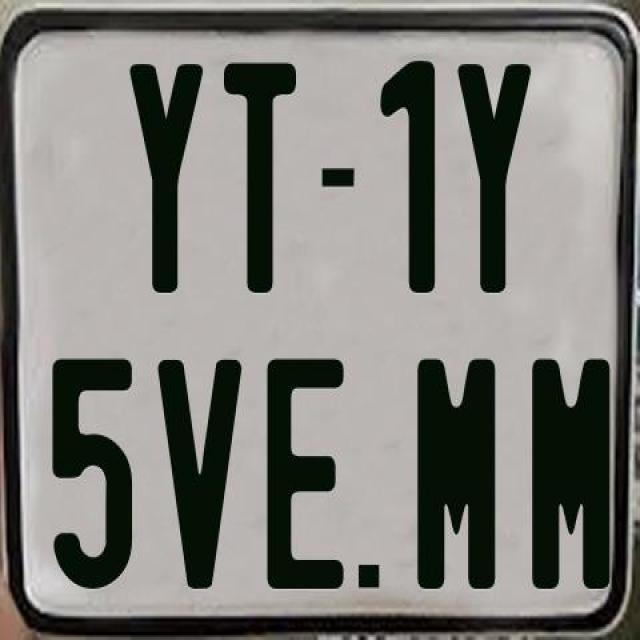1: (380, 58, 438, 300)
5: (48, 357, 134, 587)
E: (265, 355, 347, 587)
M: (529, 354, 615, 607), (415, 355, 499, 585)
T: (222, 61, 294, 291)
V: (155, 360, 241, 598)
Y: (125, 64, 203, 301), (455, 64, 531, 301)
